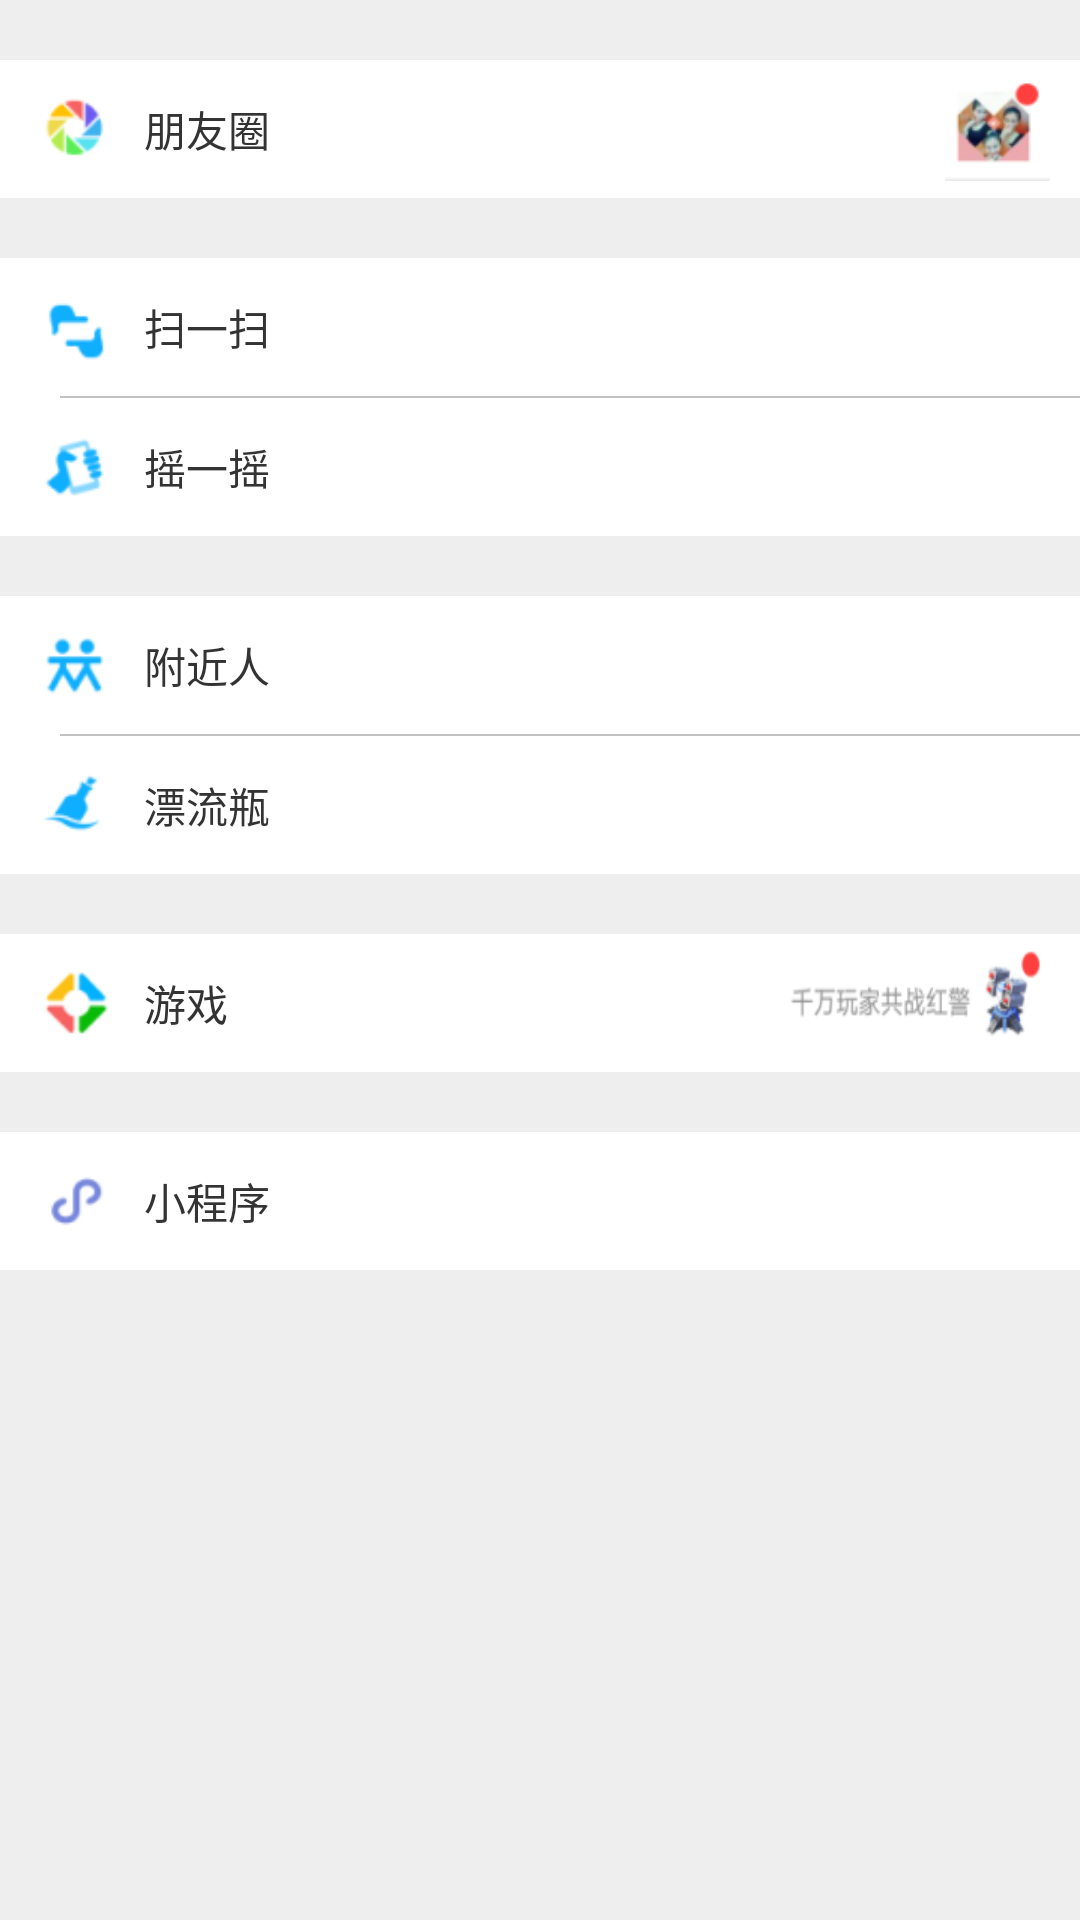

Icon bounding boxes for this 1080 × 1920 phone screenshot, format (x1, y1, x2, y2):
fu jin: (46, 638, 103, 693)
piao liu: (45, 776, 99, 831)
sao yi: (49, 303, 104, 359)
yao yi: (46, 439, 103, 495)
